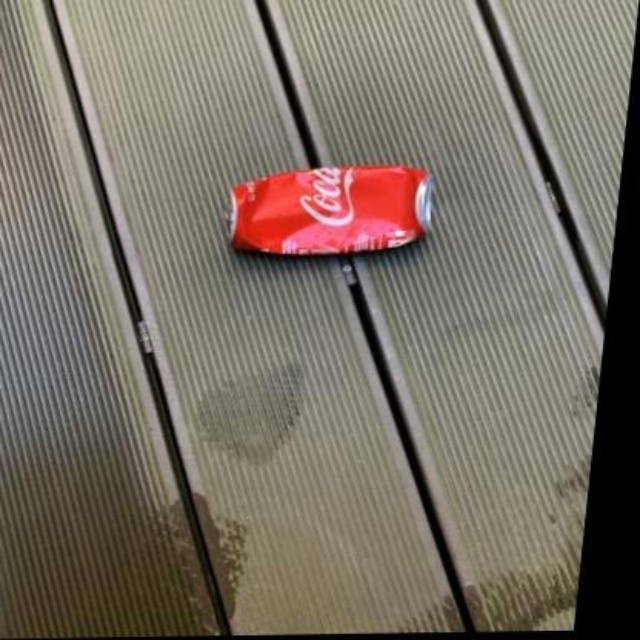trash: (231, 166, 431, 254)
